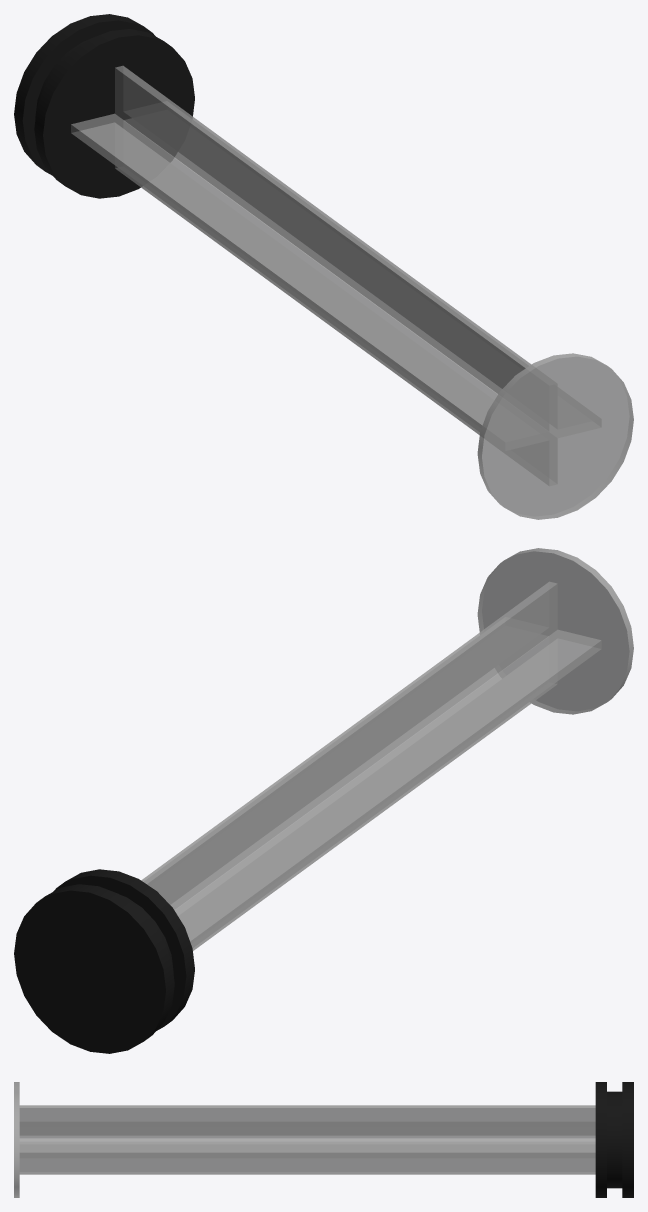
The model's file is plunger.glb.
3 views of the same model, one above another, from view 1: azimuth 30°, elevation 25°; view 2: azimuth 150°, elevation 25°; view 3: azimuth 270°, elevation 25° (orthographic). The views are drawn at different scales.
Parts seen in each view (by area): view 1: C-Zuiger; view 2: C-Zuiger; view 3: C-Zuiger.
Boxes of the visible parts, bbox=[...] form: C-Zuiger: bbox=[14, 14, 633, 519]; C-Zuiger: bbox=[14, 548, 633, 1053]; C-Zuiger: bbox=[14, 1082, 633, 1197].
Size of the model in its own units: 0.0236 by 0.0236 by 0.1259.
2 materials, 1 textured.
